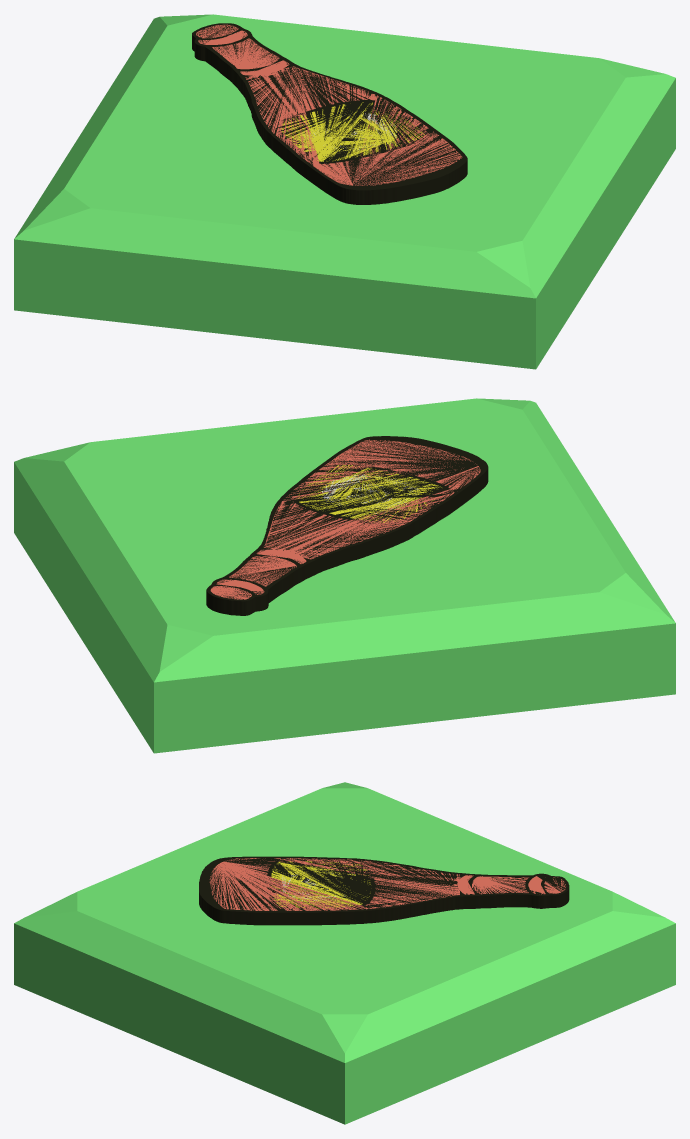
File: TileMid-Bottle.fbx
3 renders of one model, top to bottom at view 1: azimuth 30°, elevation 25°; view 2: azimuth 150°, elevation 25°; view 3: azimuth 270°, elevation 25°, orthographic. The views are drawn at different scales.
Visible parts, largest first — view 1: Sisemid; view 2: Sisemid; view 3: Sisemid.
Boxes of the visible parts, x1,y1,x2,y2 form: Sisemid: [14, 14, 675, 369]; Sisemid: [14, 398, 675, 753]; Sisemid: [14, 782, 675, 1124].
Bounding box in the file's own units: 174 × 27.91 × 174.
